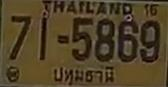1: (39, 16, 46, 60)
5: (71, 17, 92, 60)
6: (117, 19, 137, 61)
7: (9, 15, 30, 59)
8: (94, 18, 114, 61)
9: (139, 20, 159, 62)
PTE: (49, 64, 116, 87)
